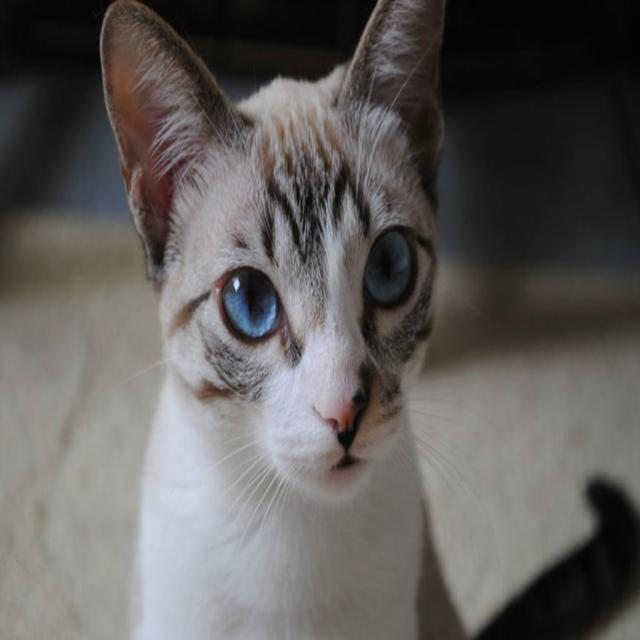Cat: (96, 0, 638, 638)
